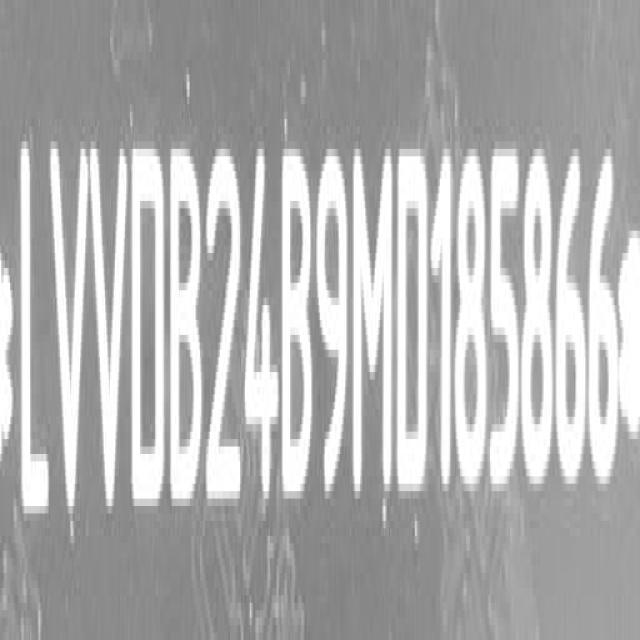1: (433, 143, 452, 513)
2: (203, 149, 240, 510)
4: (246, 141, 280, 507)
5: (489, 148, 521, 502)
6: (586, 146, 620, 488), (554, 149, 586, 485)
8: (453, 143, 489, 496), (522, 138, 554, 493)
9: (315, 140, 347, 499)
B: (168, 148, 203, 512), (280, 148, 314, 502)
D: (130, 130, 164, 507), (396, 132, 430, 504)
L: (18, 130, 50, 518)
M: (352, 146, 393, 493)
V: (50, 138, 90, 532), (89, 135, 128, 521)
